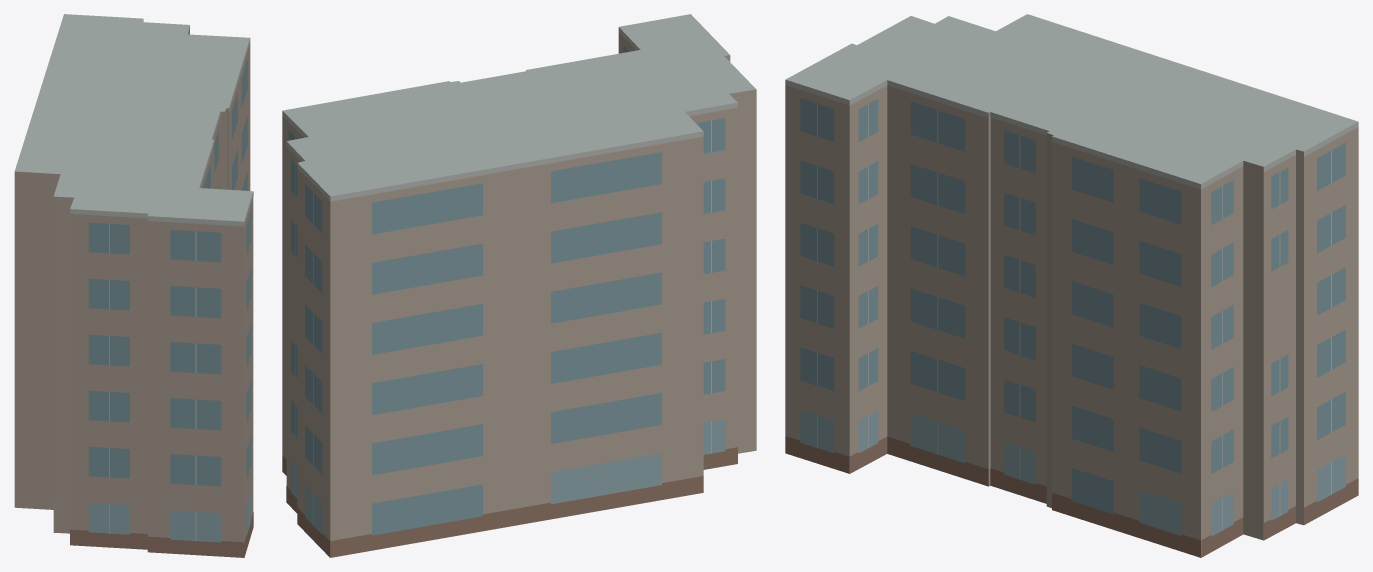
Rendered from survey-upis-33046943.glb.
3 views of the same model, side by side, from view 1: azimuth 30°, elevation 25°; view 2: azimuth 150°, elevation 25°; view 3: azimuth 270°, elevation 25° (orthographic). The views are drawn at different scales.
Visible parts, largest first — view 1: survey-upis-33046943.tmp; view 2: survey-upis-33046943.tmp; view 3: survey-upis-33046943.tmp.
Boxes of the visible parts, x1=… form: survey-upis-33046943.tmp: x1=14, y1=14, x2=253, y2=557; survey-upis-33046943.tmp: x1=282, y1=14, x2=756, y2=557; survey-upis-33046943.tmp: x1=785, y1=14, x2=1358, y2=557.
Size of the model in its own units: 16.52 by 16.9 by 23.51.
